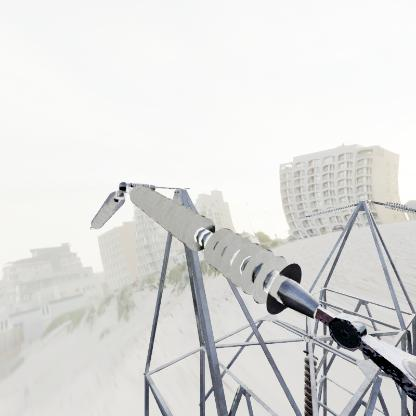insulator: (127, 181, 311, 316), (91, 182, 130, 233)
